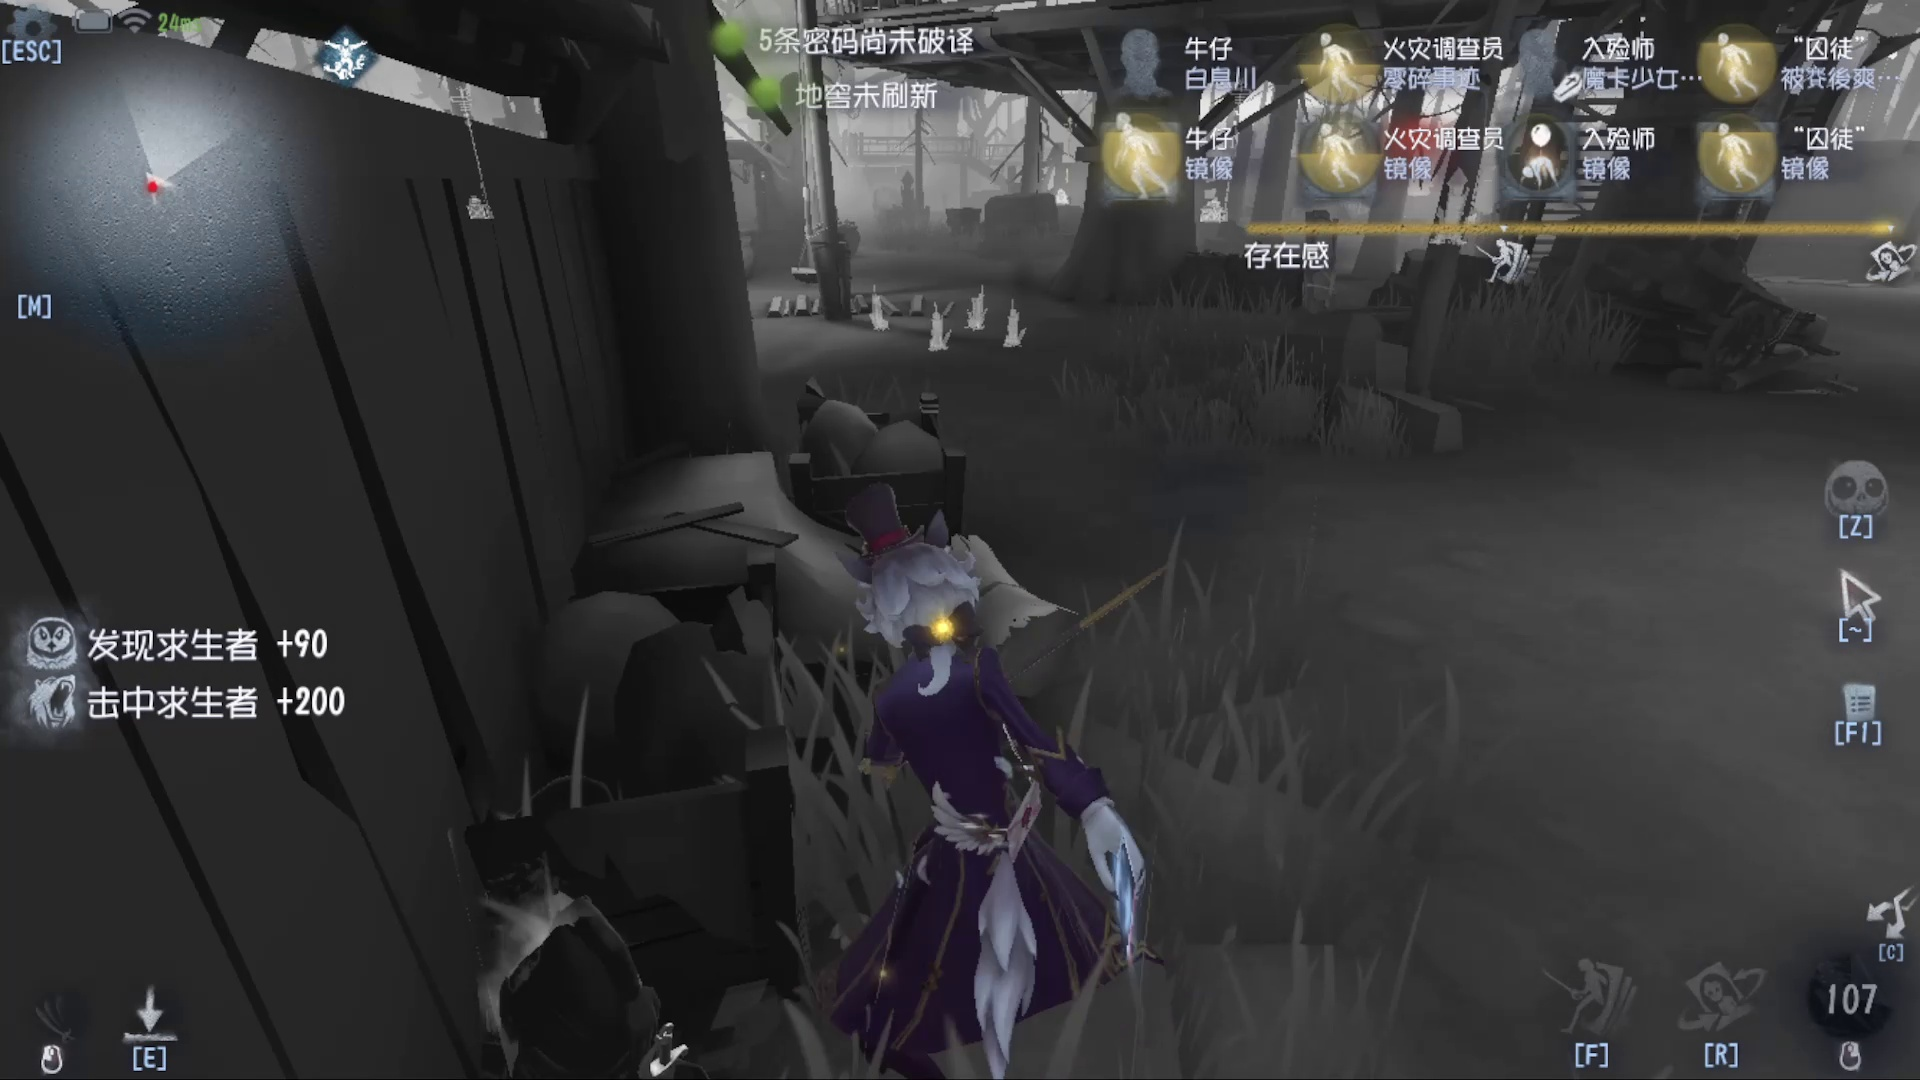狂欢之椅: (916, 291, 952, 365), (1001, 301, 1035, 359)
